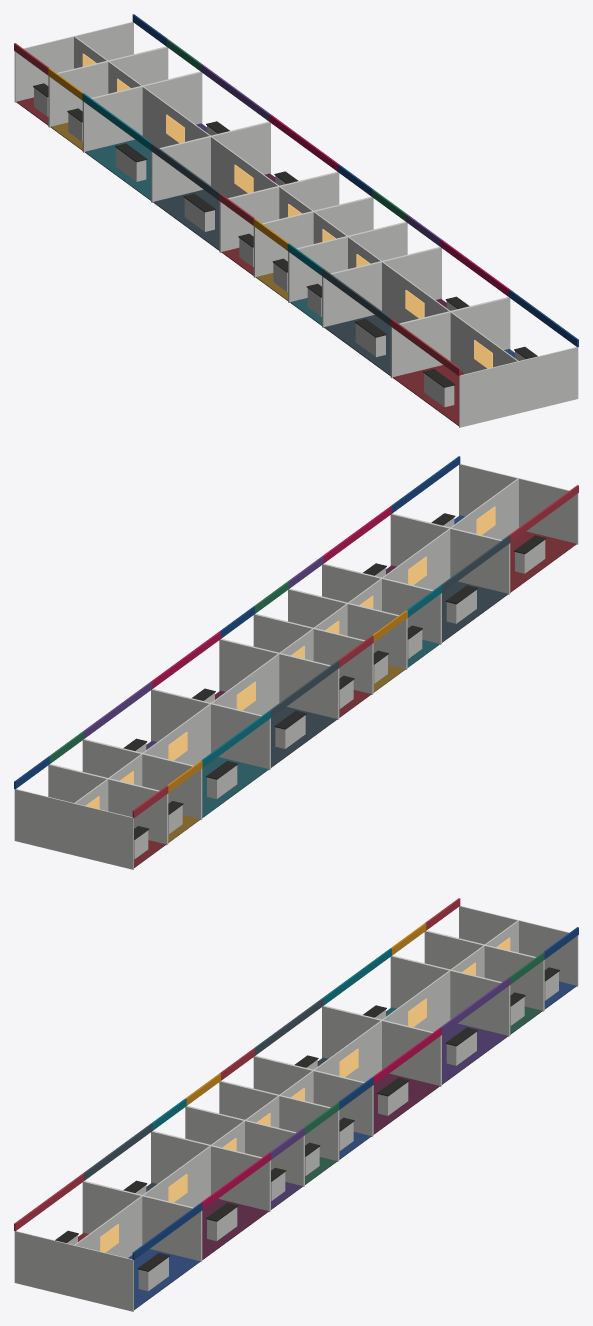
Rendered from stand-island.glb.
3 views of the same model, one above another, from view 1: azimuth 30°, elevation 25°; view 2: azimuth 150°, elevation 25°; view 3: azimuth 330°, elevation 25° (orthographic).
Parts seen in each view (by area): view 1: StandPanels, StandCarpet8, CounterTop, LEDScreen, StandCarpet2, StandCarpet6, StandFascia2, StandFascia1, StandFascia8, StandFascia7, StandFascia5, StandFascia6 (+3 smaller); view 2: StandPanels, StandCarpet8, CounterTop, LEDScreen, StandCarpet2, StandCarpet6, StandFascia2, StandFascia1, StandFascia7, StandFascia8, StandFascia5, StandFascia6 (+3 smaller); view 3: StandPanels, StandCarpet7, CounterTop, LEDScreen, StandCarpet1, StandCarpet5, StandFascia1, StandFascia2, StandFascia7, StandFascia8, StandFascia5, StandFascia6 (+3 smaller).
Boxes of the visible parts, x1,y1,x2,y2 form: StandPanels: (14, 22, 578, 427); StandCarpet8: (153, 189, 390, 375); CounterTop: (33, 83, 537, 387); LEDScreen: (82, 53, 492, 368); StandCarpet2: (16, 97, 464, 425); StandCarpet6: (85, 139, 321, 325); StandFascia2: (14, 43, 460, 375); StandFascia1: (132, 14, 578, 347); StandFascia8: (151, 143, 391, 325); StandFascia7: (269, 114, 509, 296); StandFascia5: (201, 64, 441, 246); StandFascia6: (82, 93, 322, 275); StandPanels: (14, 464, 578, 869); StandCarpet8: (271, 581, 507, 767); CounterTop: (123, 513, 546, 839); LEDScreen: (85, 506, 495, 809); StandCarpet2: (134, 531, 576, 867); StandCarpet6: (202, 639, 439, 817); StandFascia2: (132, 485, 578, 817); StandFascia1: (14, 456, 460, 789); StandFascia7: (151, 506, 391, 688); StandFascia8: (270, 535, 510, 717); StandFascia5: (83, 556, 323, 738); StandFascia6: (201, 585, 441, 767); StandPanels: (14, 906, 578, 1311); StandCarpet7: (202, 1073, 439, 1259); CounterTop: (55, 967, 559, 1271); LEDScreen: (100, 937, 510, 1252); StandCarpet1: (128, 981, 576, 1309); StandCarpet5: (271, 1023, 507, 1209); StandFascia1: (132, 927, 578, 1259); StandFascia2: (14, 898, 460, 1231); StandFascia7: (201, 1027, 441, 1209); StandFascia8: (83, 998, 323, 1180); StandFascia5: (270, 977, 510, 1159); StandFascia6: (151, 948, 391, 1130).
Bounding box in the file's own units: 6.08 × 2.86 × 39.
